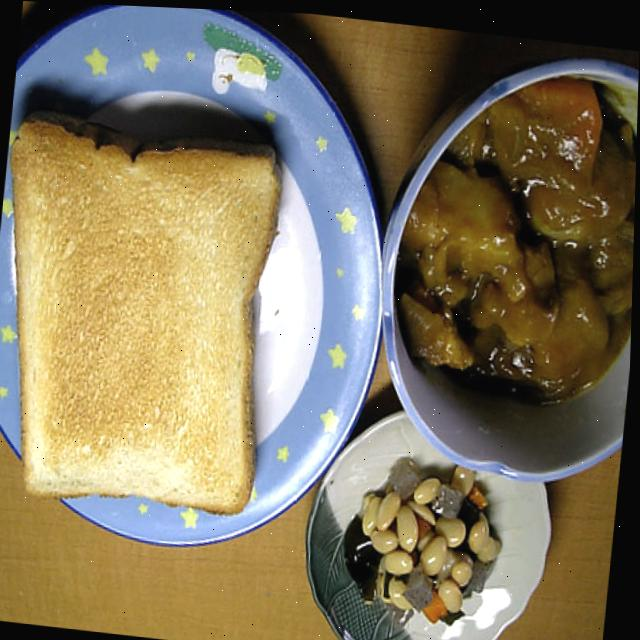牛肉菜式: (380, 54, 639, 402)
面包点心: (0, 118, 287, 510)
